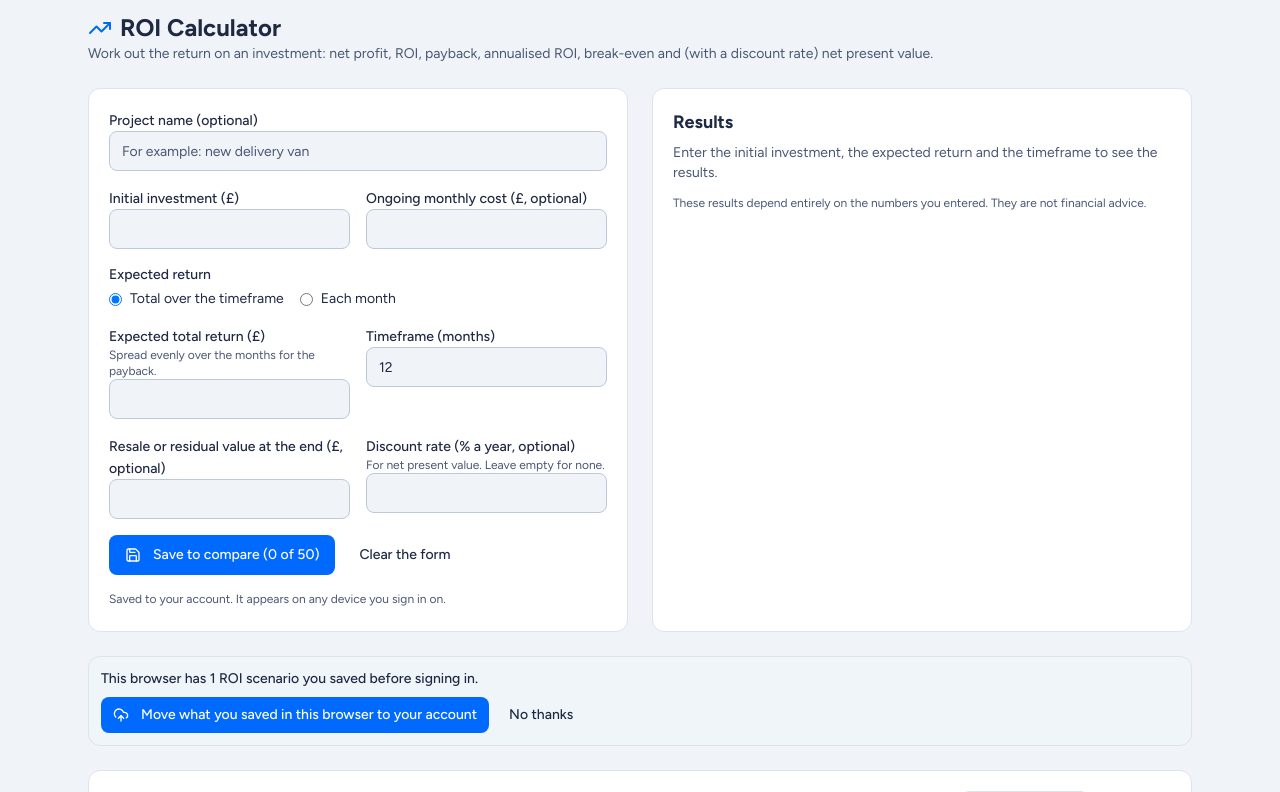
Test case: the one-time move from this browser to the account › ROI: Phase 38 scenarios in this browser can be moved; "No thanks" moves nothing and is remembered
The image size is (1280, 792).
Step 1. Click the button "No thanks" → [541, 715], box [497, 697, 585, 733]
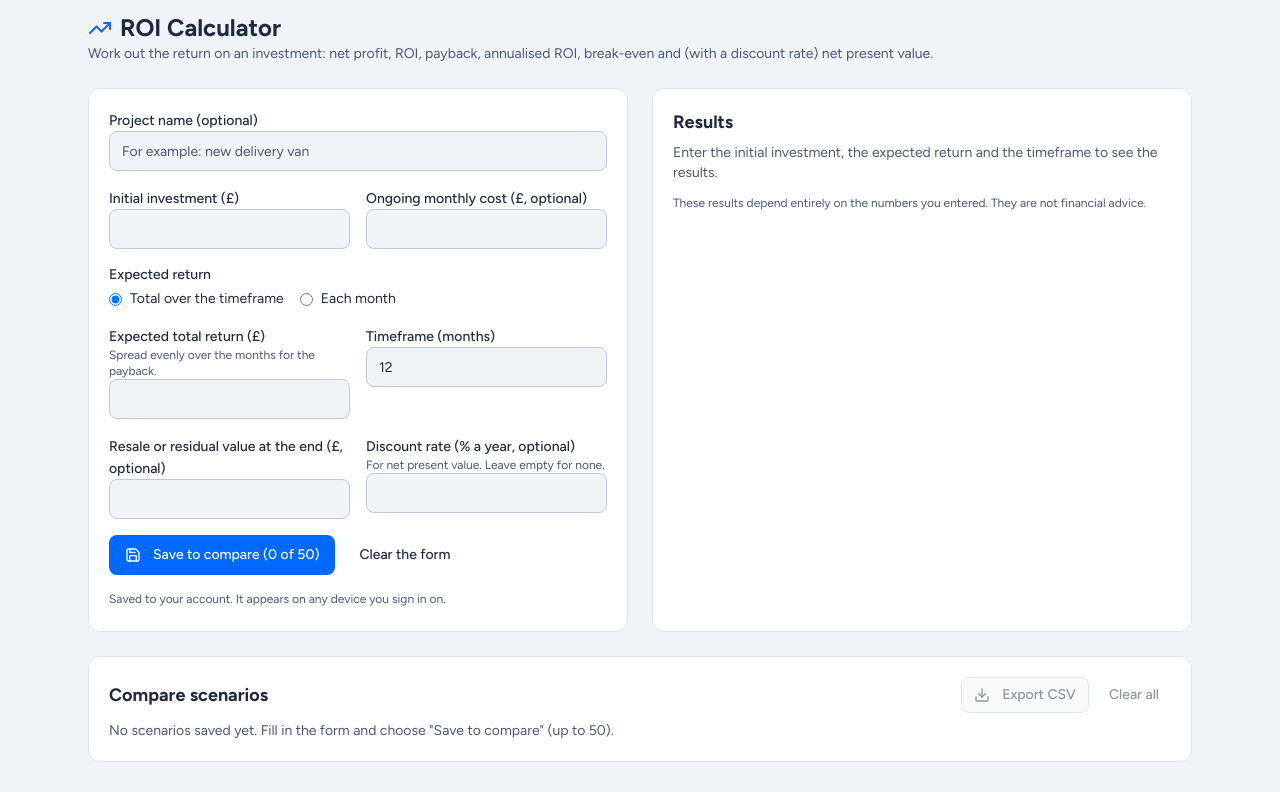
Now the element with test id "move-to-account" is gone
